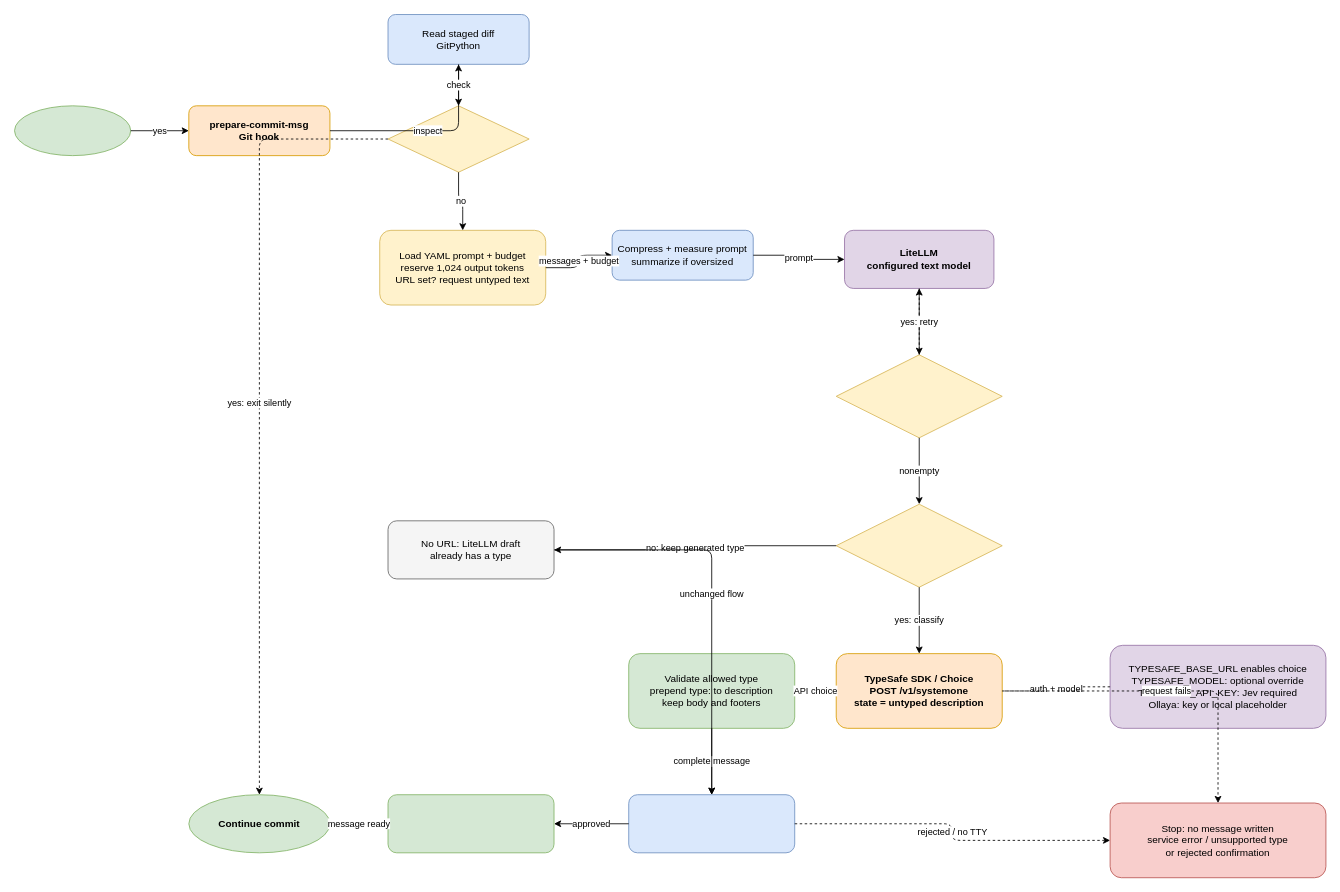
Image size: 1340x892. Some labels were removed from this diagram. The shapes that lost their labels are listed below. From the top down, each one's centre as x and y in pixels, then its label:
At (72,130): "git commit".
At (458,138): "No staged changes?".
At (918,396): "Empty response? Retry up to configured limit".
At (918,545): "Decision URL configured?".
At (470,823): "Write approved text COMMIT_EDITMSG".
At (711,823): "Show draft + confirm or --auto-approve".
